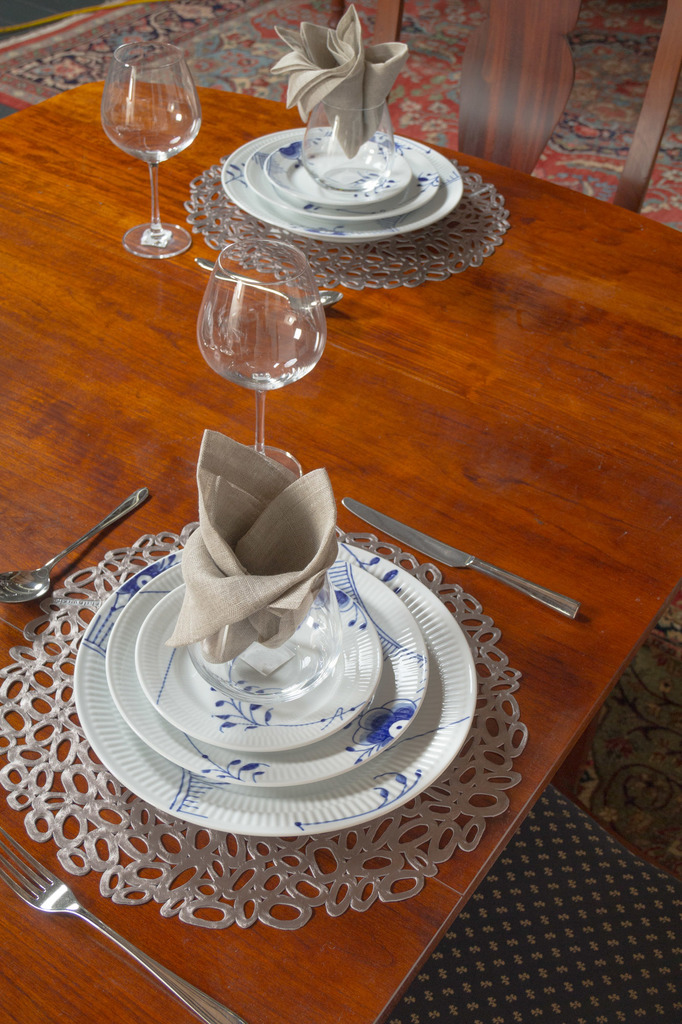plate: (72, 542, 474, 839)
